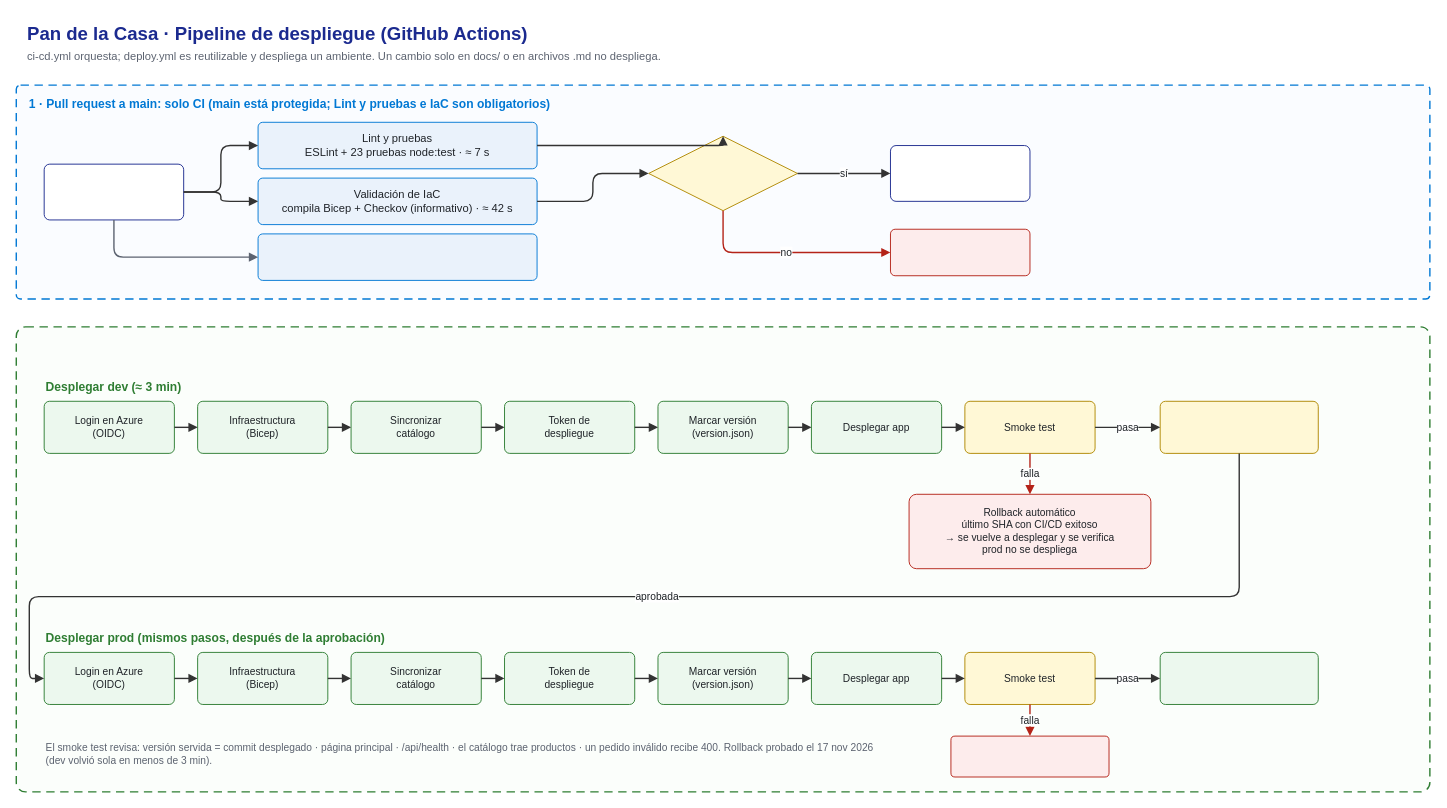
Some shapes in this 1447 by 808 pixel diagram are drawn without their labels. Each missing label, with the box of its shape:
2 · Push a main: despliegue continuo (el mismo commit va a dev y luego a prod): (15, 326, 1430, 792)
Aprobación manual environment prod: (1159, 400, 1318, 453)
CodeQL · análisis de seguridad (reporta en Security, no bloquea): (257, 233, 537, 280)
Merge a main: (890, 145, 1030, 201)
Merge bloqueado: (890, 228, 1030, 276)
Prod actualizado: (1159, 651, 1318, 704)
Rama + pull request: (43, 163, 184, 220)
Rollback de prod: (950, 735, 1109, 777)
¿Checks en verde?: (648, 135, 797, 211)
